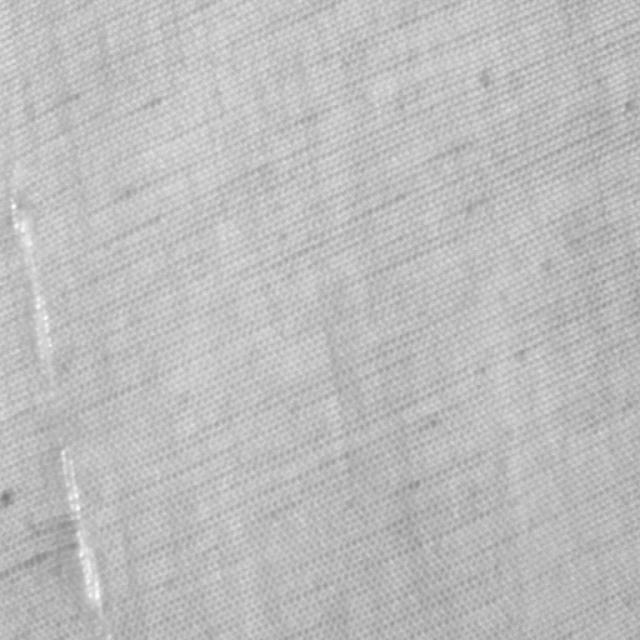thread error: (1, 148, 118, 638)
